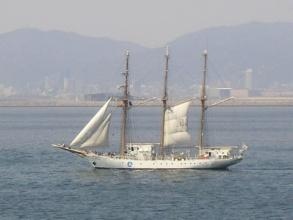fanchuan: (46, 39, 250, 170)
